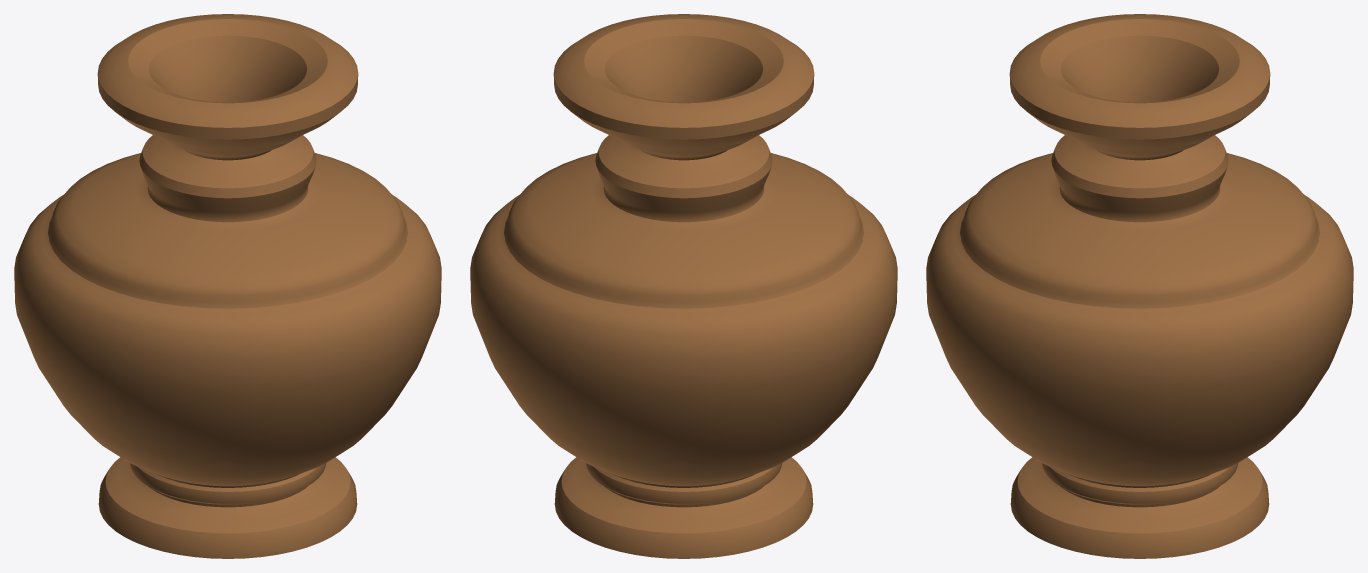
The model's file is env-pot2.fbx.
3 renders of one model, left to right at view 1: azimuth 30°, elevation 25°; view 2: azimuth 150°, elevation 25°; view 3: azimuth 270°, elevation 25°, orthographic.
Parts seen in each view (by area): view 1: Circle.123; view 2: Circle.123; view 3: Circle.123.
Part boxes in pixels (x1=…): Circle.123: x1=14, y1=14, x2=441, y2=558; Circle.123: x1=470, y1=14, x2=897, y2=558; Circle.123: x1=926, y1=14, x2=1353, y2=558.
Bounding box in the file's own units: 101 × 115 × 101.
